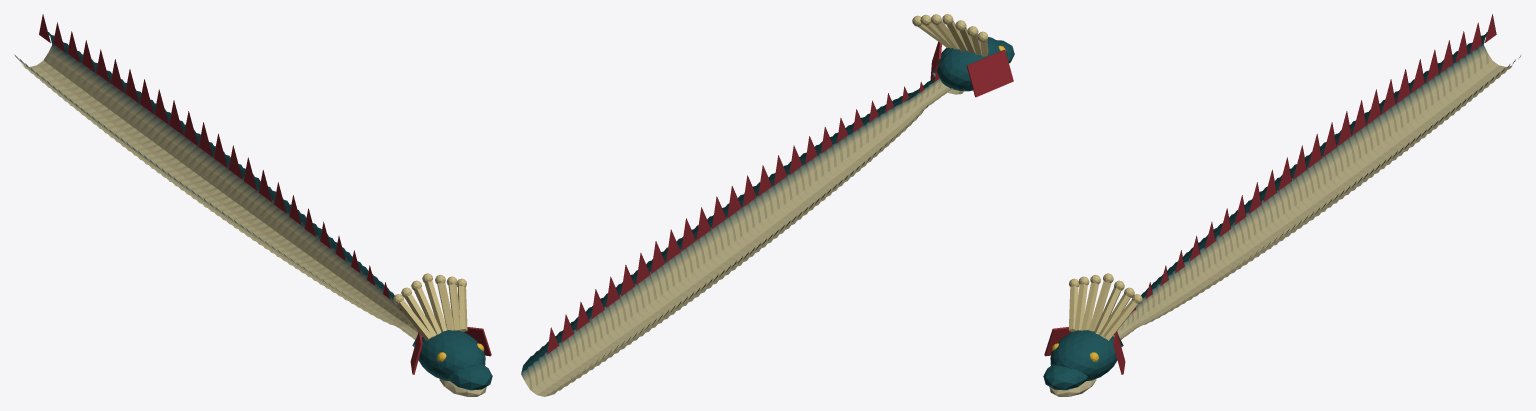
Rendered from brinecrown_coil_rest.glb.
The picture shows the model from 3 angles, left to right: view 1: azimuth 30°, elevation 25°; view 2: azimuth 150°, elevation 25°; view 3: azimuth 330°, elevation 25°; orthographic projection. The views are drawn at different scales.
Visible parts, largest first — view 1: geometry_0; view 2: geometry_0; view 3: geometry_0.
Boxes of the visible parts, x1,y1,x2,y2 form: geometry_0: (14, 14, 492, 396); geometry_0: (521, 14, 1014, 396); geometry_0: (1043, 14, 1520, 396).
Bounding box in the file's own units: 10.73 × 11.68 × 105.
